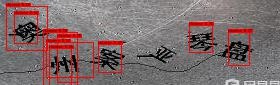chinese: (12, 19, 47, 48), (186, 29, 222, 56), (92, 46, 122, 73), (147, 40, 176, 66), (225, 40, 253, 65), (49, 55, 81, 76)
